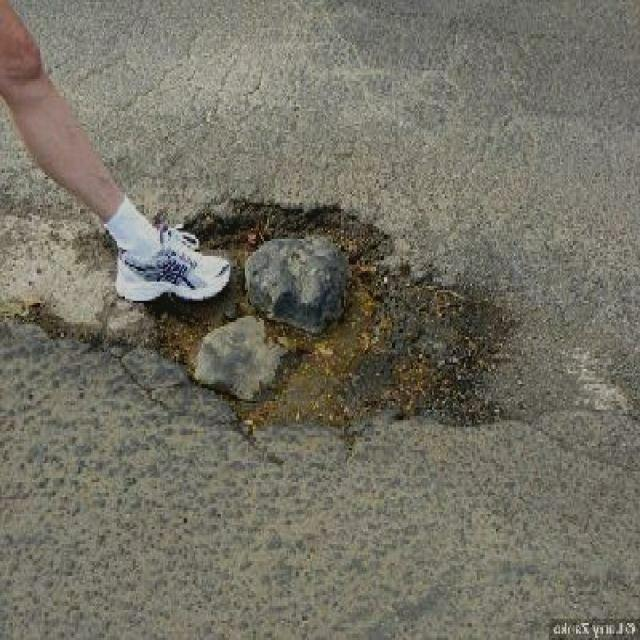Pothole: (142, 194, 522, 435)
